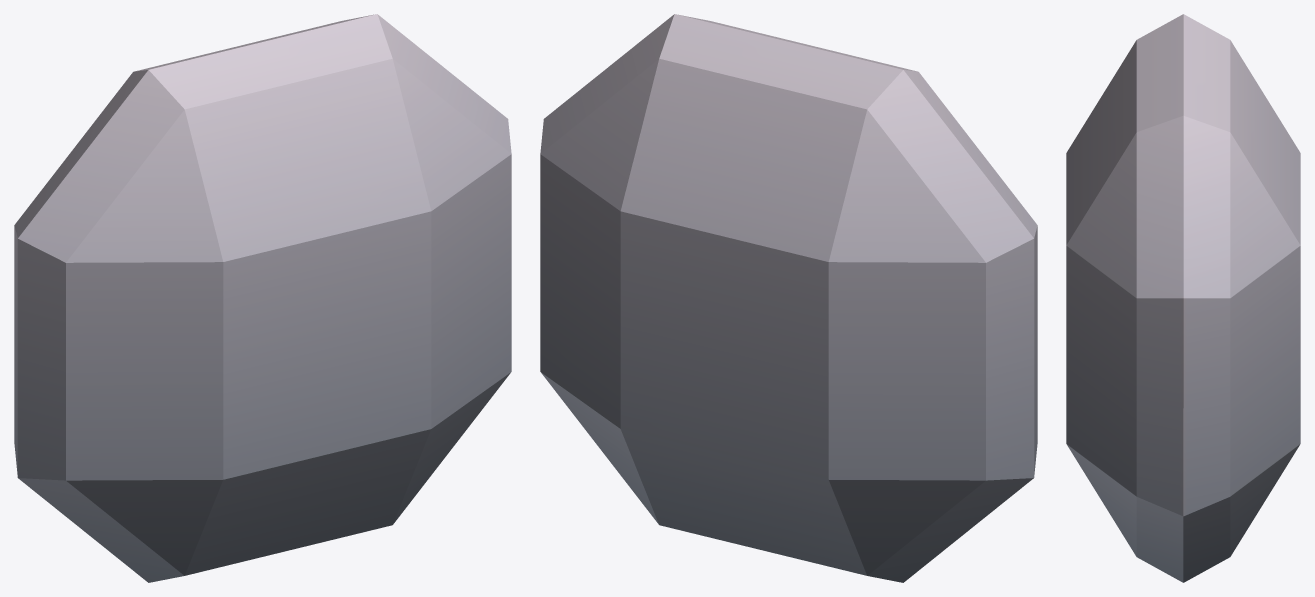
The model's file is CubieB.fbx.
3 views of the same model, side by side, from view 1: azimuth 30°, elevation 25°; view 2: azimuth 150°, elevation 25°; view 3: azimuth 270°, elevation 25° (orthographic). The views are drawn at different scales.
Visible parts, largest first — view 1: CubieB; view 2: CubieB; view 3: CubieB.
Boxes of the visible parts, x1,y1,x2,y2 form: CubieB: [14, 14, 511, 582]; CubieB: [540, 14, 1037, 582]; CubieB: [1066, 14, 1300, 582].
Size of the model in its own units: 233 by 233 by 106.
